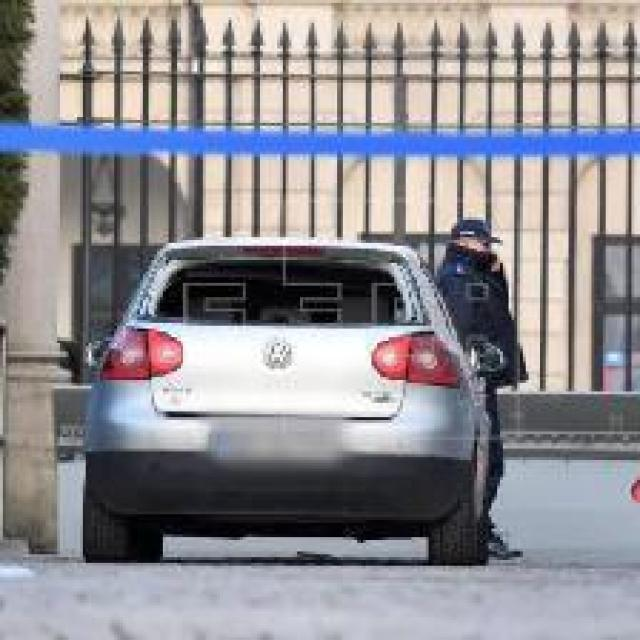damaged: (154, 262, 432, 332)
